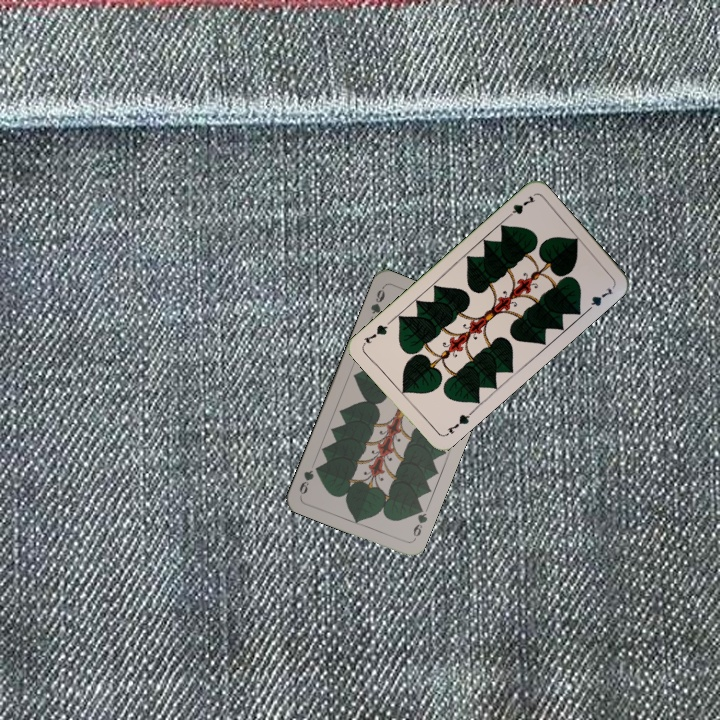G7: (501, 191, 537, 222), (441, 408, 475, 439)
G9: (367, 283, 388, 325), (409, 501, 430, 543)
